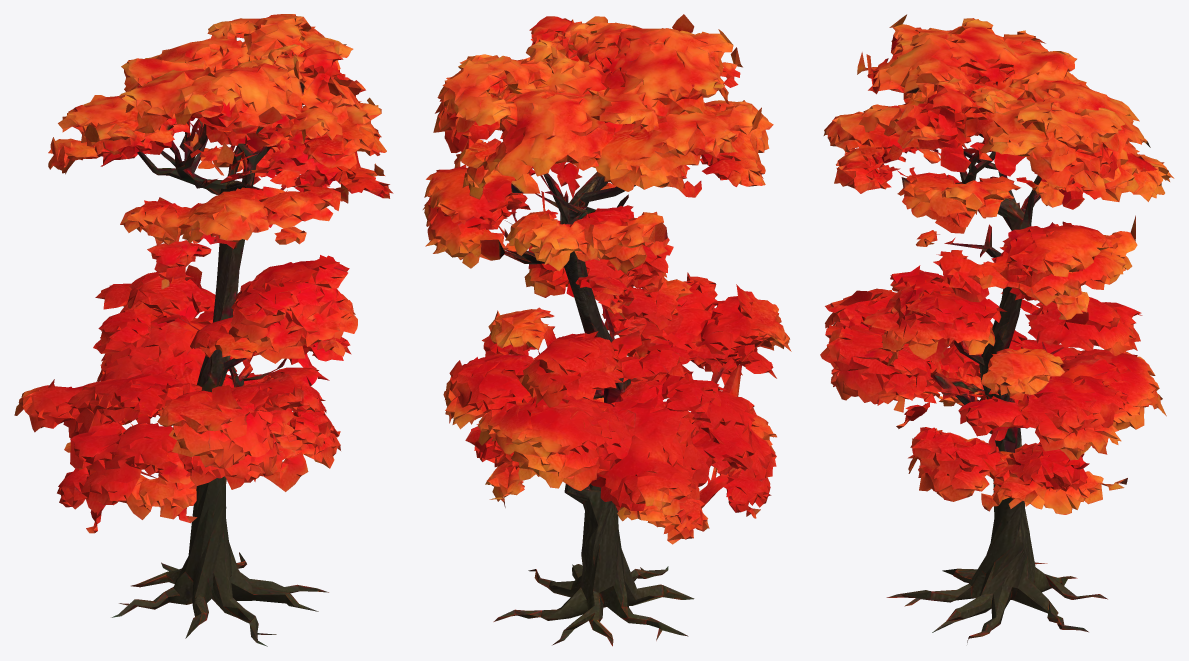
Rendered from tree_autumn_b.glb.
3 views of the same model, side by side, from view 1: azimuth 30°, elevation 25°; view 2: azimuth 150°, elevation 25°; view 3: azimuth 270°, elevation 25° (orthographic).
Bounding box in the file's own units: 1.12 × 1.88 × 1.09.
Materials: 1 (1 with a texture image).
